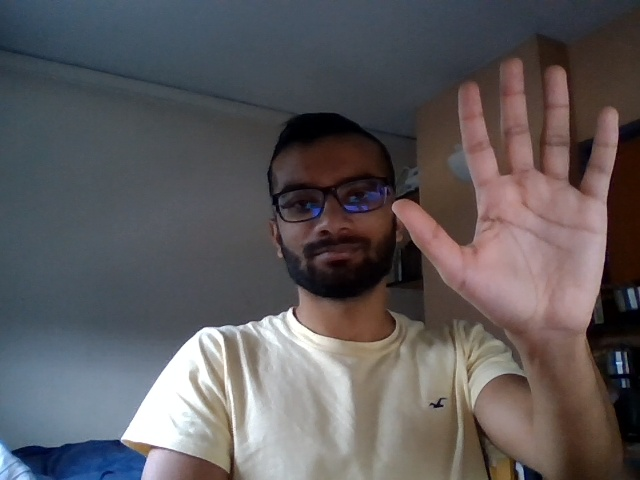Hello: (391, 38, 621, 337)
